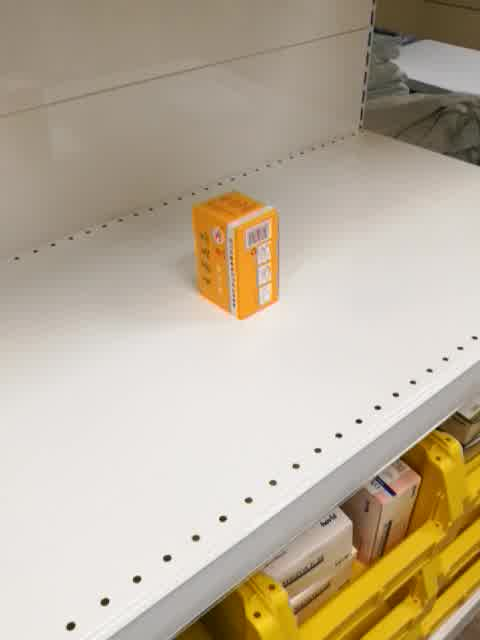jasminetea: (190, 189, 281, 320)
